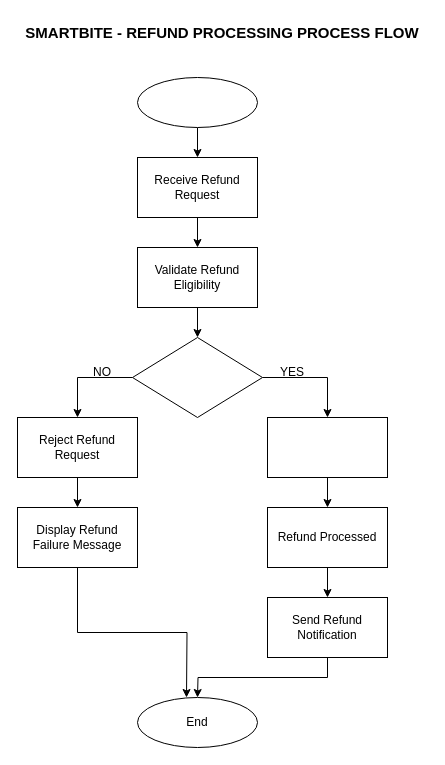
This 445x765 diagram has some shape labels left out. Each missing label, with the centre of its shape:
"Initiate Refund" belongs at pixel 327 447.
"Refund Eligible?" belongs at pixel 197 377.
"Start" belongs at pixel 197 102.
